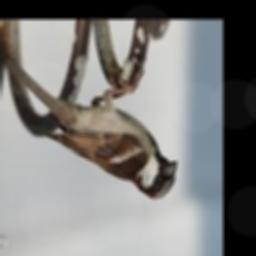Sparrow: (5, 55, 177, 199)
